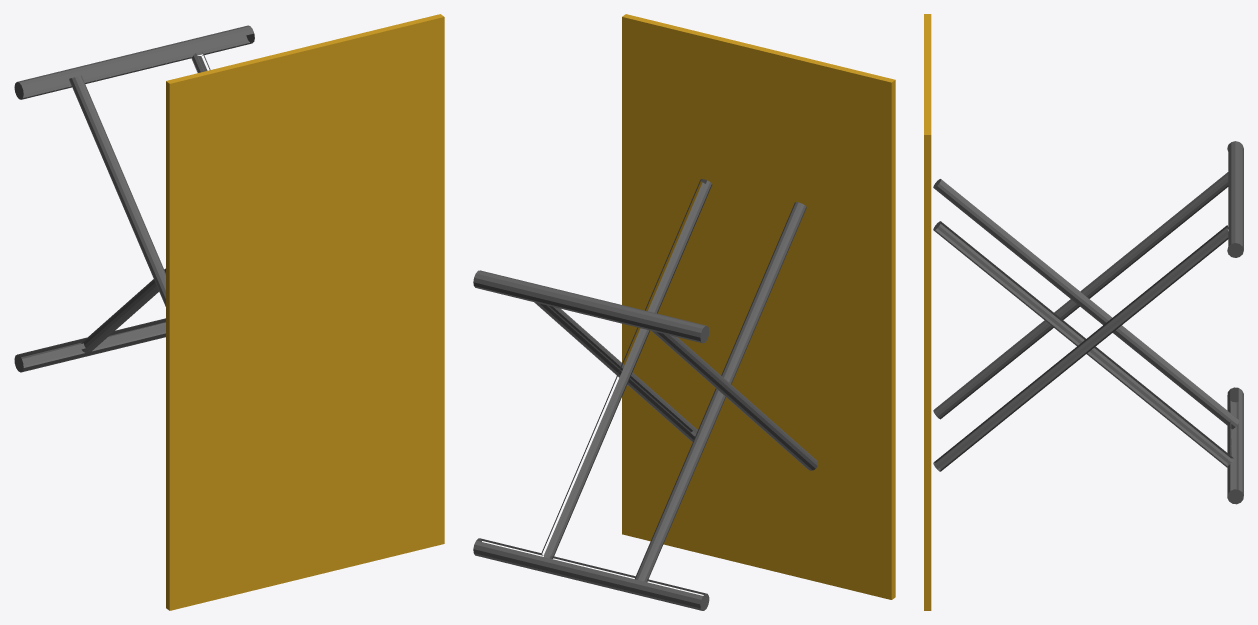
File: nil_link_mesh.dae
3 views of the same model, side by side, from view 1: azimuth 30°, elevation 25°; view 2: azimuth 150°, elevation 25°; view 3: azimuth 270°, elevation 25° (orthographic). The views are drawn at different scales.
Parts seen in each view (by area): view 1: nil_link (×3); view 2: nil_link (×3); view 3: nil_link (×3).
Part boxes in pixels (<box>): nil_link (×3): <box>14,14,444,610</box>; nil_link (×3): <box>473,14,895,610</box>; nil_link (×3): <box>924,14,1243,610</box>.
Bounding box in the file's own units: 0.6 × 1.1 × 0.6699.
